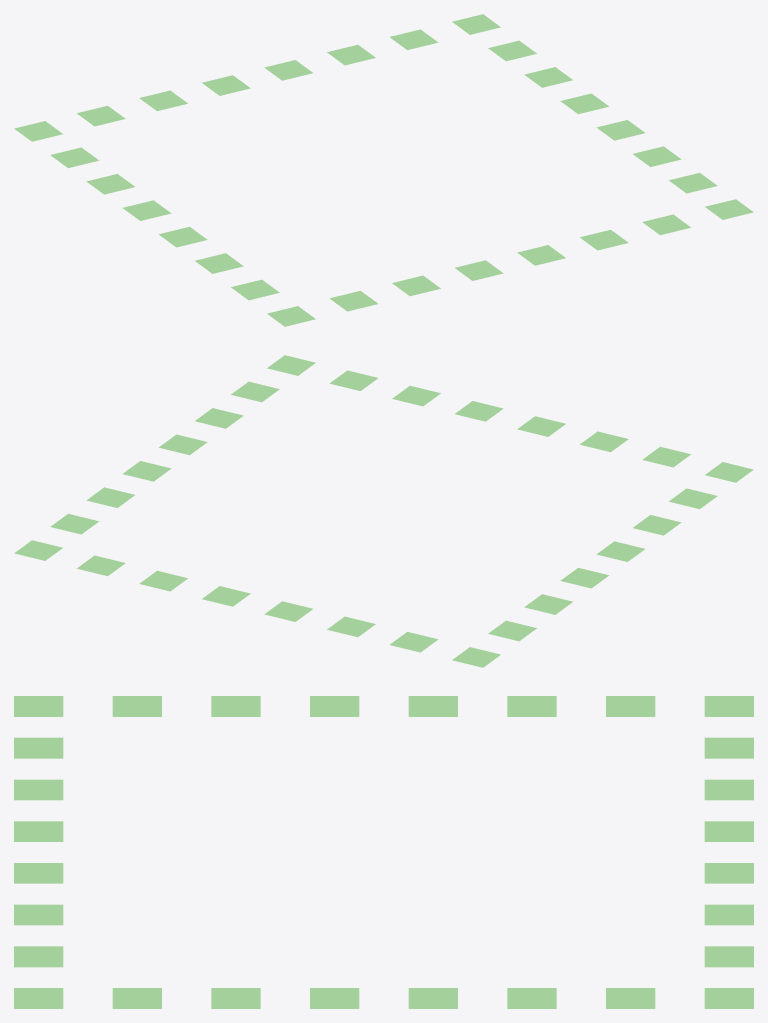
The model's file is CanMoveTo.fbx.
The picture shows the model from 3 angles, top to bottom: view 1: azimuth 30°, elevation 25°; view 2: azimuth 150°, elevation 25°; view 3: azimuth 270°, elevation 25°; orthographic projection. The views are drawn at different scales.
Parts seen in each view (by area): view 1: MoveTo; view 2: MoveTo; view 3: MoveTo.
Boxes of the visible parts, x1,y1,x2,y2 form: MoveTo: (14,14,753,326); MoveTo: (14,355,753,667); MoveTo: (14,696,753,1008).
Size of the model in its own units: 100 by 0 by 100.
